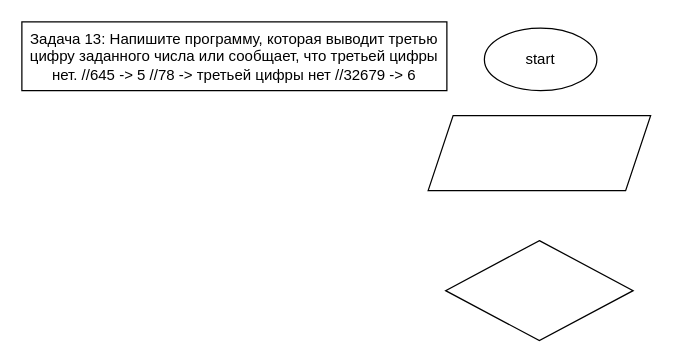
This 673x363 diagram has some shape labels left out. Here are the shapes that lost their labels. From the top down, the centre of each, then its label:
At (x=539, y=152): "N = вводимое число ThirdDig = искомая цифра".
At (x=538, y=290): "m[index]".
